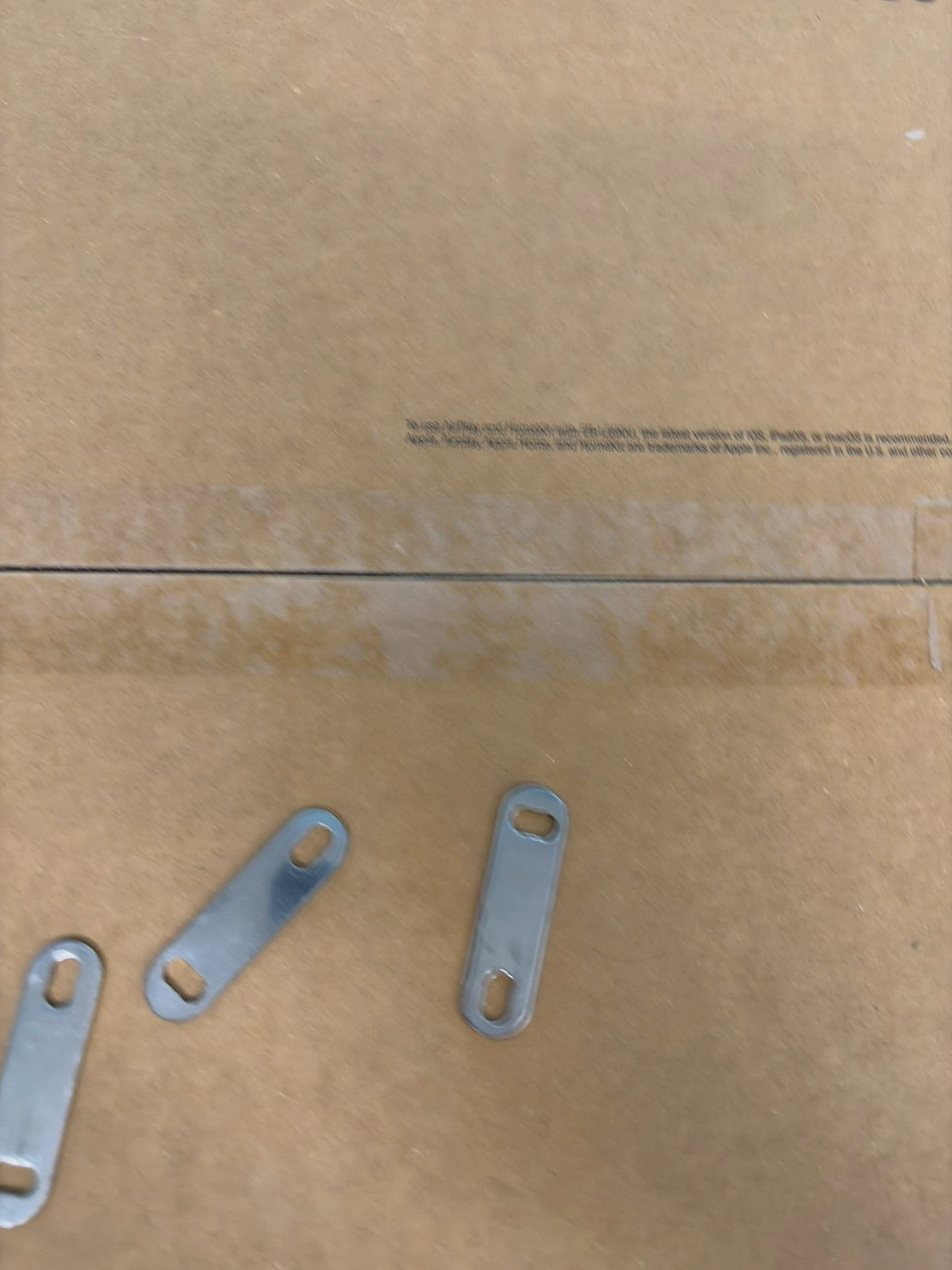Fe: (3, 931, 106, 1232), (310, 789, 385, 1058), (499, 783, 575, 1038)
